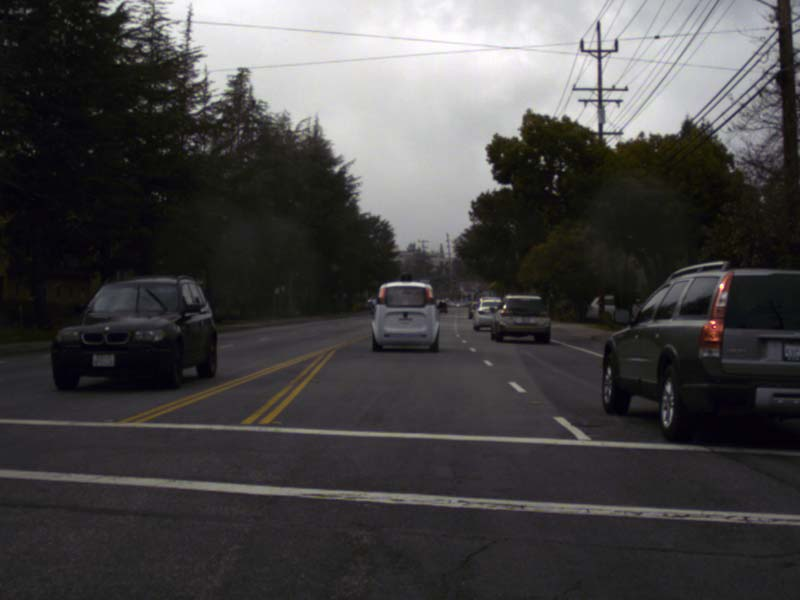Green: (474, 291, 479, 299), (441, 280, 445, 288), (451, 281, 455, 288)
